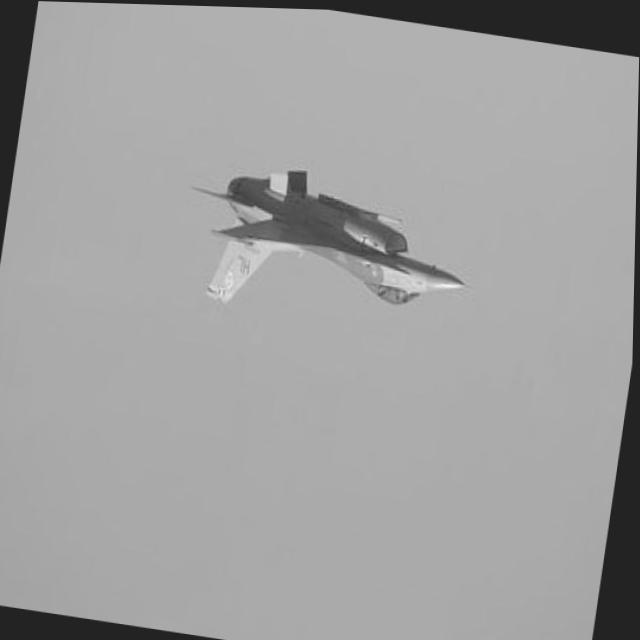aeroplane: (175, 147, 487, 336)
